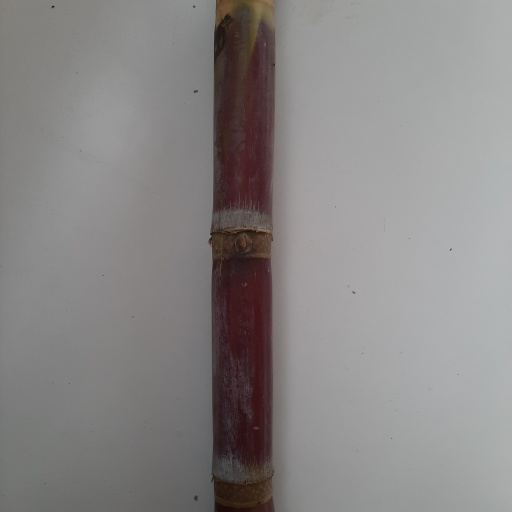Bud: (232, 229, 253, 257)
